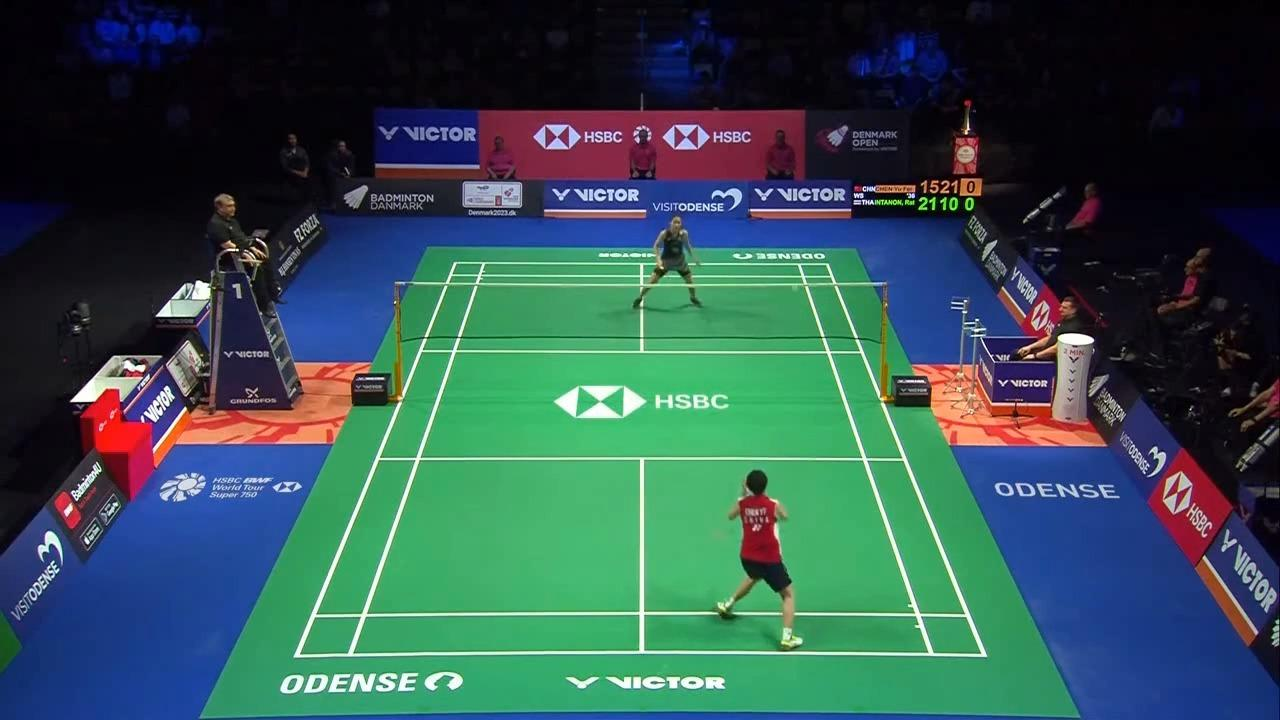shuttle: (791, 284, 801, 293)
